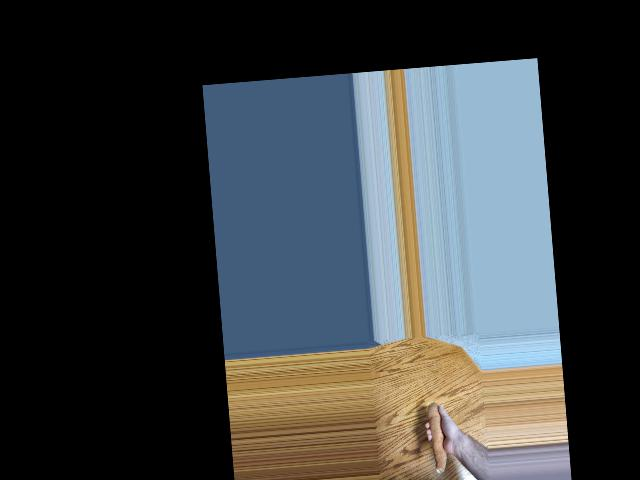sweet_potato: (423, 396, 452, 475)
